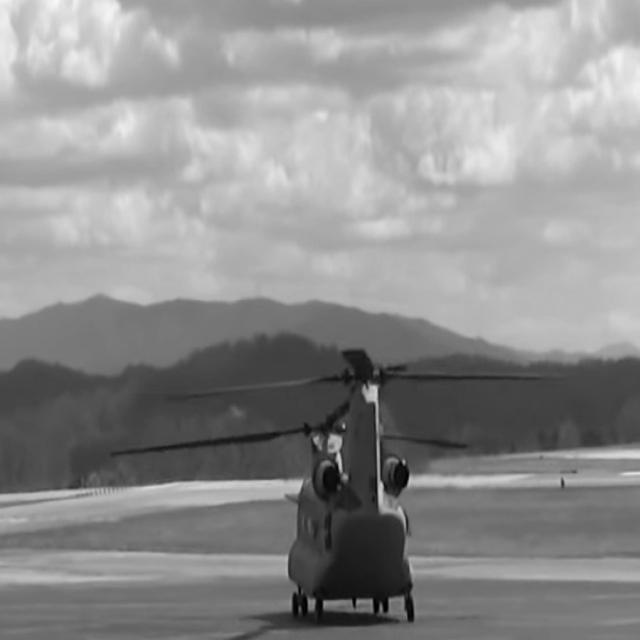Helicopter: (289, 350, 414, 620)
